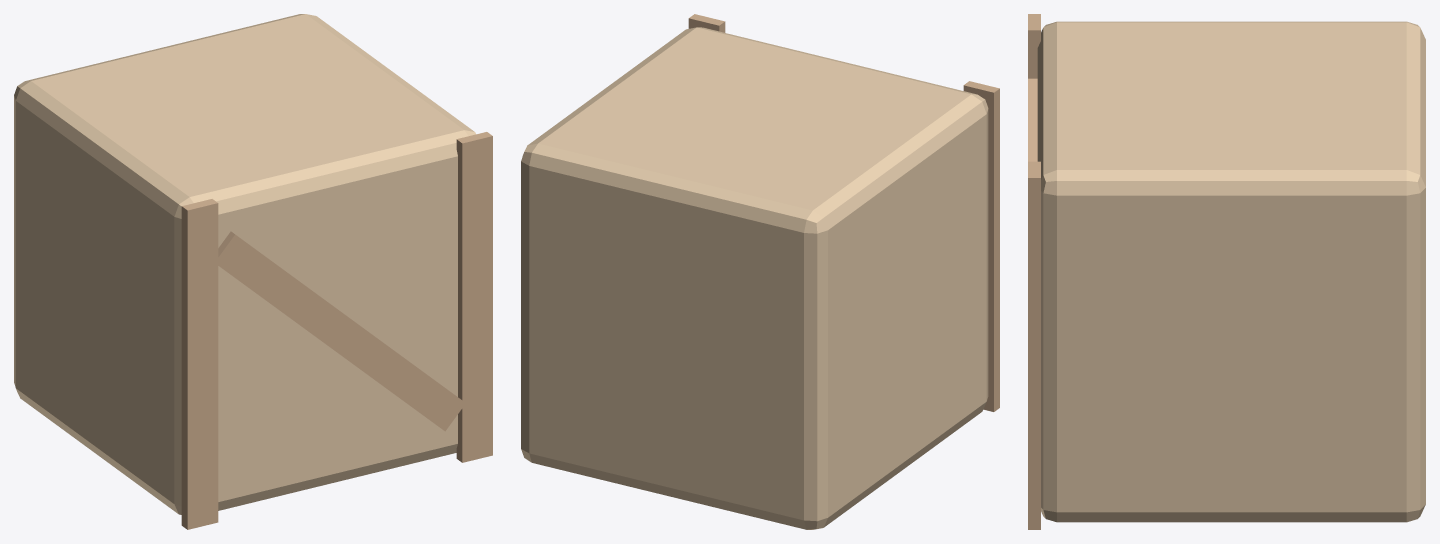
The model's file is crate.glb.
3 views of the same model, side by side, from view 1: azimuth 30°, elevation 25°; view 2: azimuth 150°, elevation 25°; view 3: azimuth 270°, elevation 25° (orthographic). The views are drawn at different scales.
Parts seen in each view (by area): view 1: crate; view 2: crate; view 3: crate.
Part boxes in pixels (x1=…): crate: x1=14, y1=14, x2=492, y2=529; crate: x1=521, y1=14, x2=999, y2=529; crate: x1=1028, y1=14, x2=1425, y2=529.
Size of the model in its own units: 0.6 by 0.6 by 0.615.
